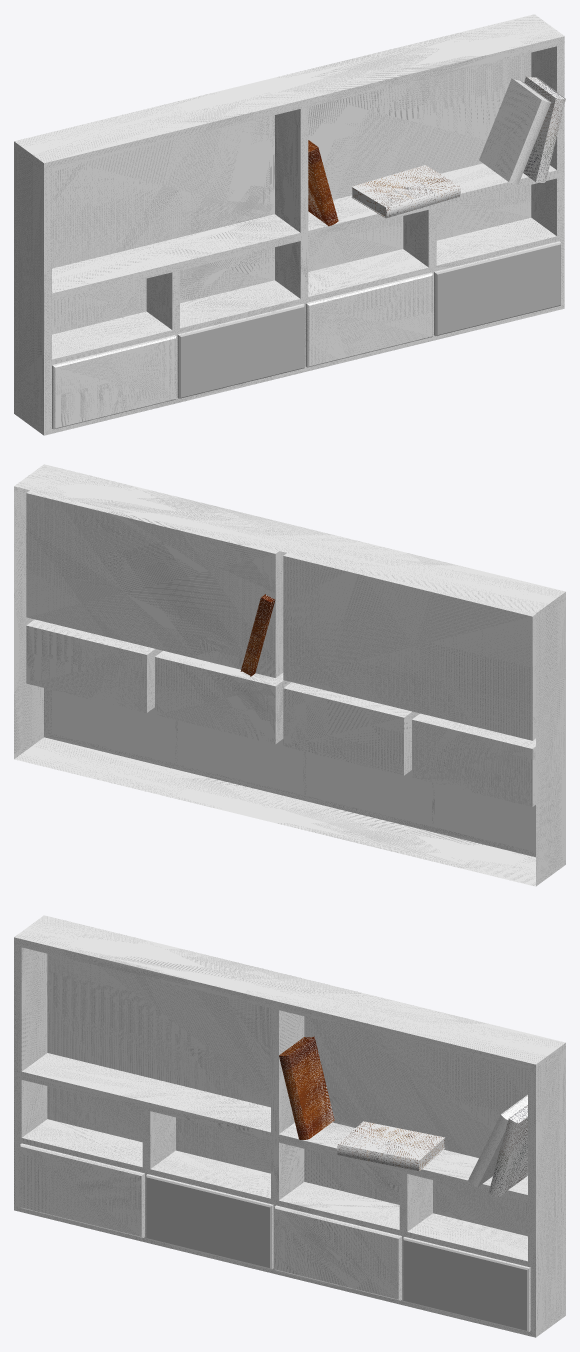
3 views of the same model, one above another, from view 1: azimuth 30°, elevation 25°; view 2: azimuth 150°, elevation 25°; view 3: azimuth 330°, elevation 25° (orthographic).
Visible parts, largest first — view 1: mesh5_mesh5-geometry, mesh4_mesh4-geometry, mesh2_mesh2-geometry, mesh3_mesh3-geometry, mesh1_mesh1-geometry; view 2: mesh5_mesh5-geometry, mesh1_mesh1-geometry; view 3: mesh5_mesh5-geometry, mesh1_mesh1-geometry, mesh2_mesh2-geometry, mesh3_mesh3-geometry, mesh4_mesh4-geometry.
Boxes of the visible parts, x1,y1,x2,y2 form: mesh5_mesh5-geometry: [14, 14, 564, 435]; mesh4_mesh4-geometry: [479, 78, 550, 184]; mesh2_mesh2-geometry: [351, 165, 460, 218]; mesh3_mesh3-geometry: [523, 76, 565, 182]; mesh1_mesh1-geometry: [308, 140, 338, 226]; mesh5_mesh5-geometry: [14, 464, 565, 886]; mesh1_mesh1-geometry: [240, 594, 275, 676]; mesh5_mesh5-geometry: [14, 915, 565, 1337]; mesh1_mesh1-geometry: [279, 1036, 334, 1139]; mesh2_mesh2-geometry: [337, 1121, 445, 1171]; mesh3_mesh3-geometry: [489, 1104, 527, 1197]; mesh4_mesh4-geometry: [468, 1095, 527, 1187].
Size of the model in its own units: 0.8881 by 0.4441 by 0.1187.
